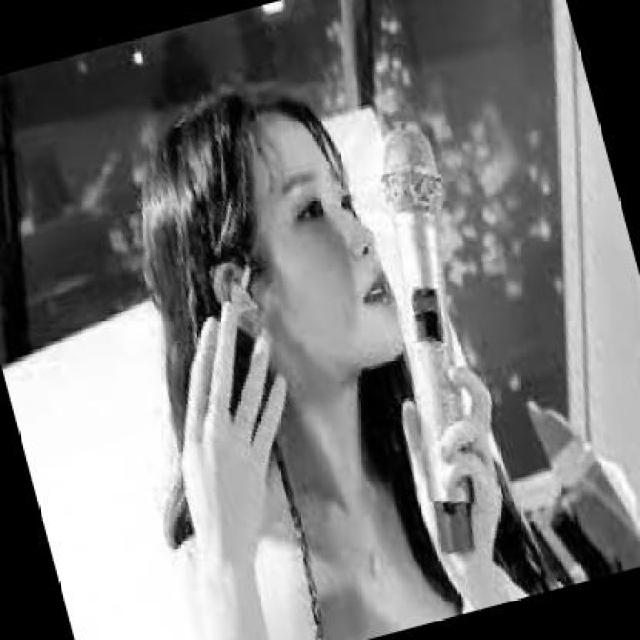earphone: (231, 259, 266, 324)
